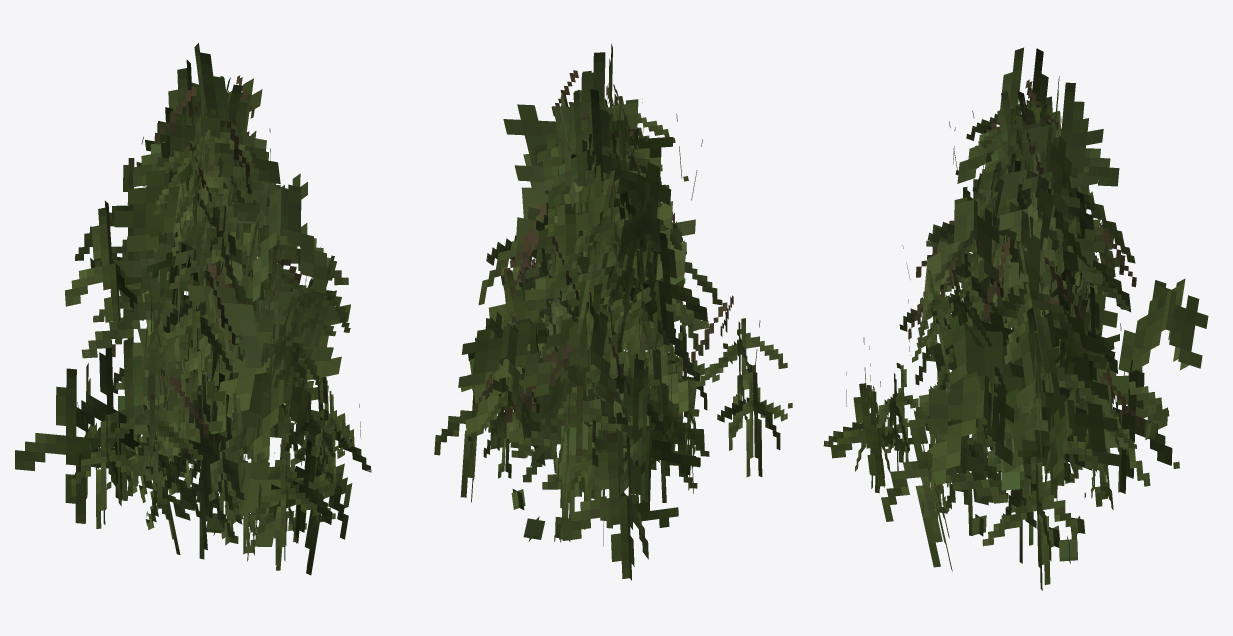
Rendered from pine-tree-lod2.glb.
3 views of the same model, side by side, from view 1: azimuth 30°, elevation 25°; view 2: azimuth 150°, elevation 25°; view 3: azimuth 270°, elevation 25° (orthographic). The views are drawn at different scales.
Parts seen in each view (by area): view 1: impostor; view 2: impostor; view 3: impostor.
Boxes of the visible parts, bbox=[...] form: impostor: bbox=[15, 43, 371, 575]; impostor: bbox=[434, 43, 792, 580]; impostor: bbox=[823, 47, 1208, 590].
Size of the model in its own units: 0.8669 by 1.24 by 0.8775.
1 material, 1 textured.
